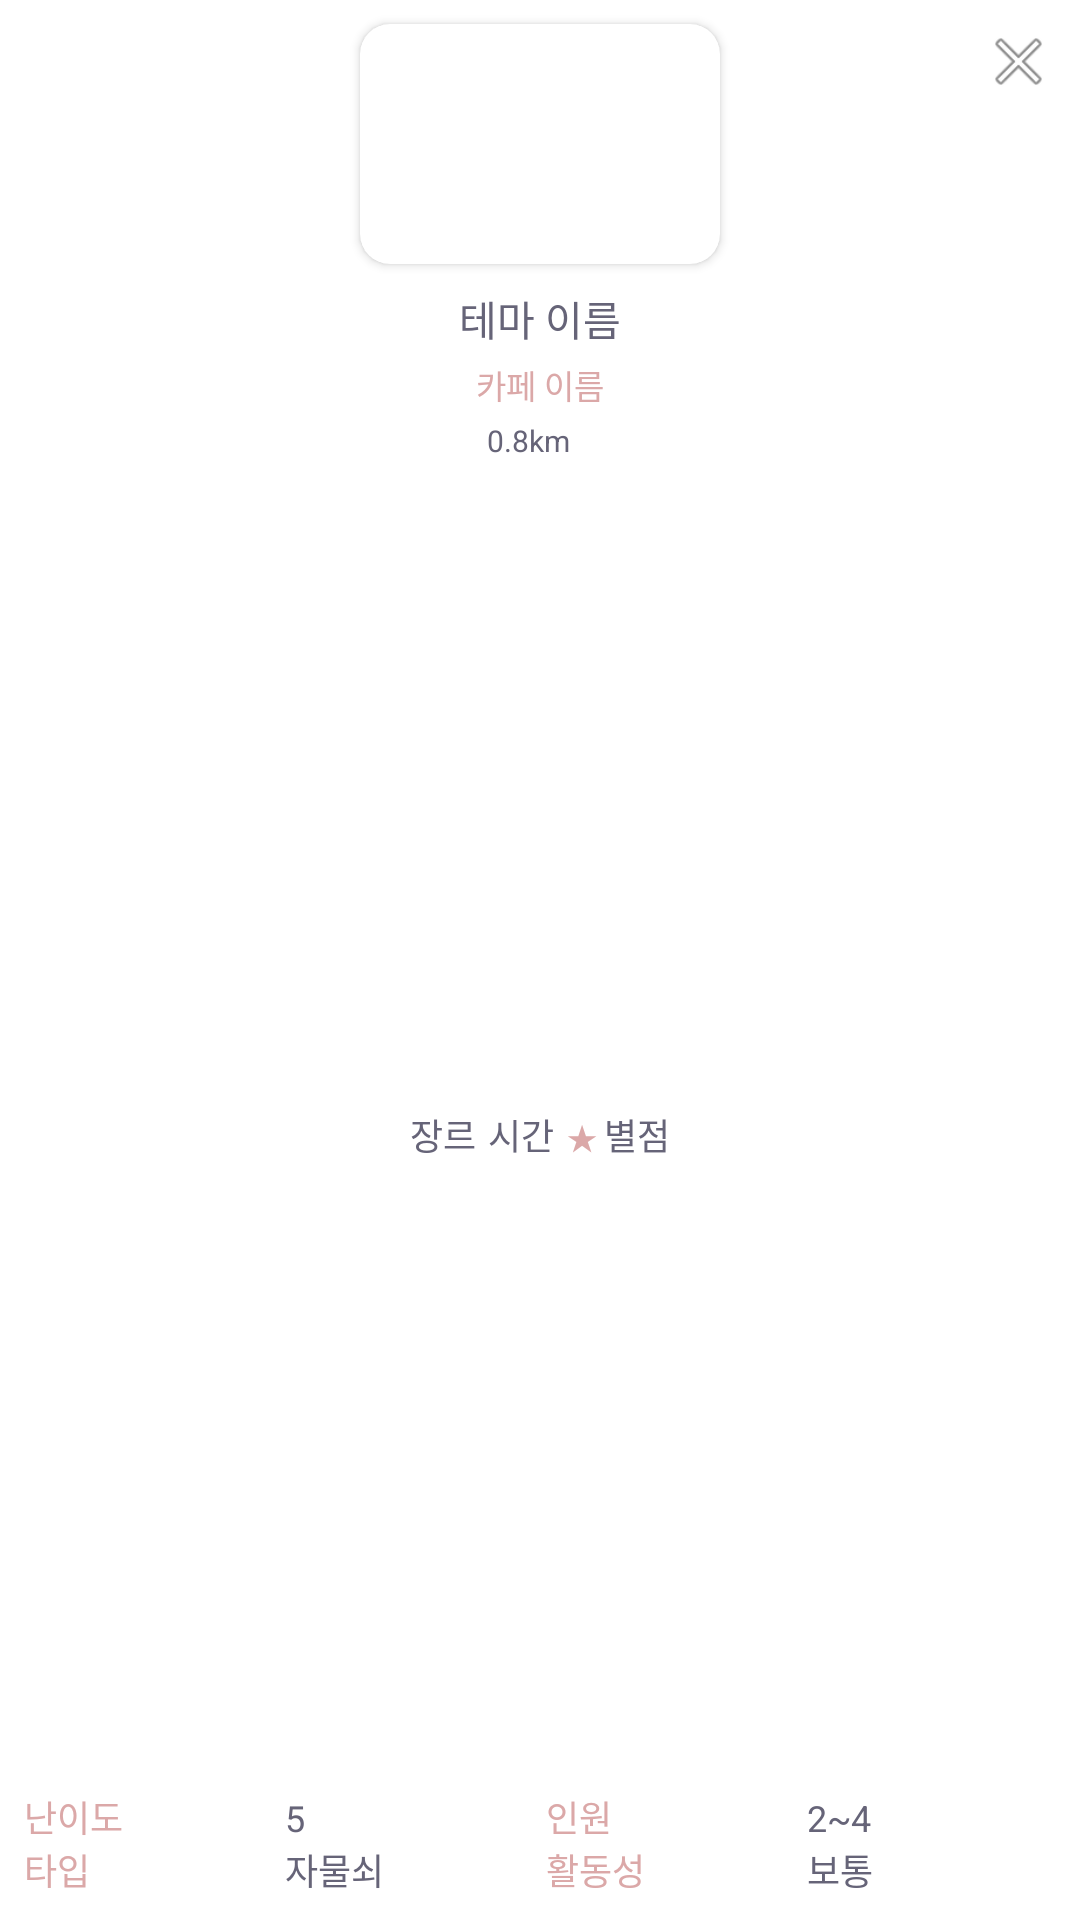

Point at icon controls on the screen. Image size 1080px x 1920px, points as [x,y].
close clear cancel: [1018,61]
